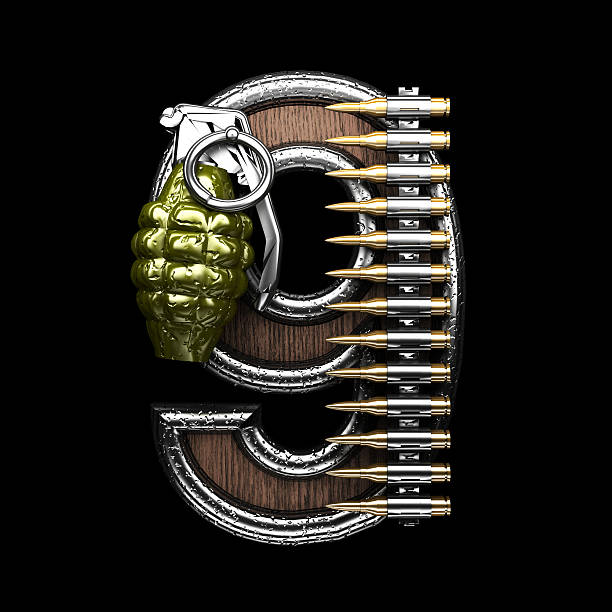e1: (119, 101, 282, 362)
